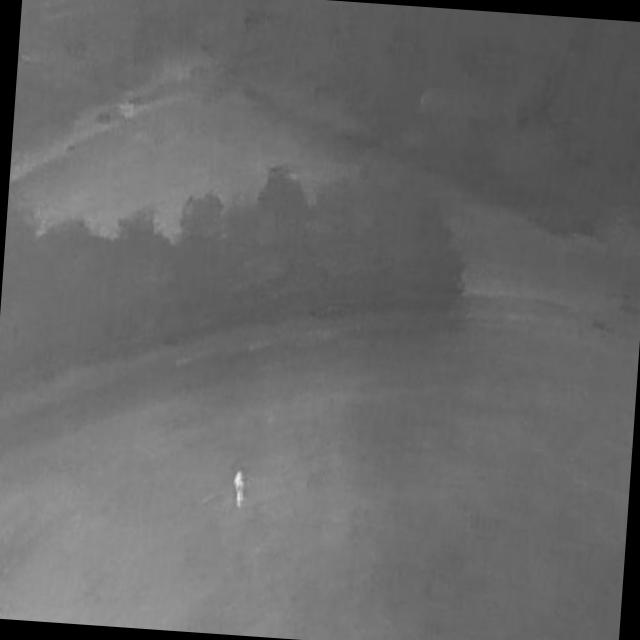person: (232, 471, 246, 508)
